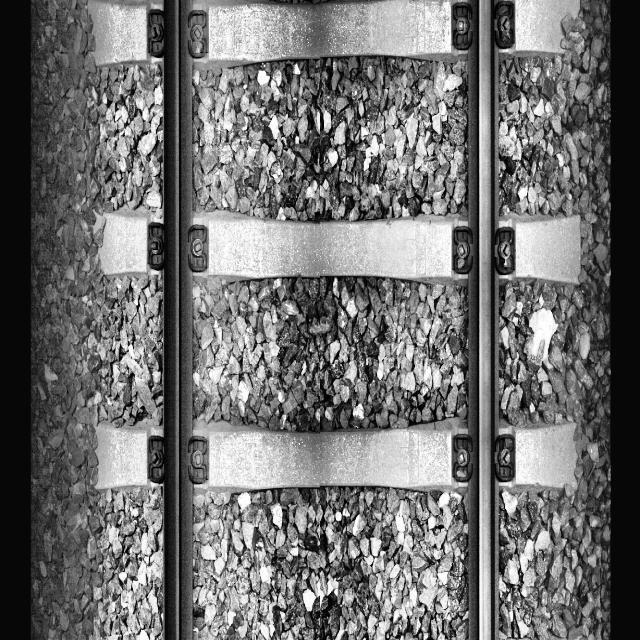Clips: (186, 8, 208, 58), (450, 434, 472, 482), (452, 2, 474, 50), (188, 436, 209, 483), (452, 226, 472, 274), (496, 434, 515, 483), (188, 223, 208, 268), (494, 229, 514, 274), (494, 2, 514, 47), (146, 8, 164, 58), (148, 216, 164, 272), (146, 435, 164, 482)
Sleepers: (92, 198, 586, 296), (92, 415, 581, 499), (81, 0, 587, 68)
